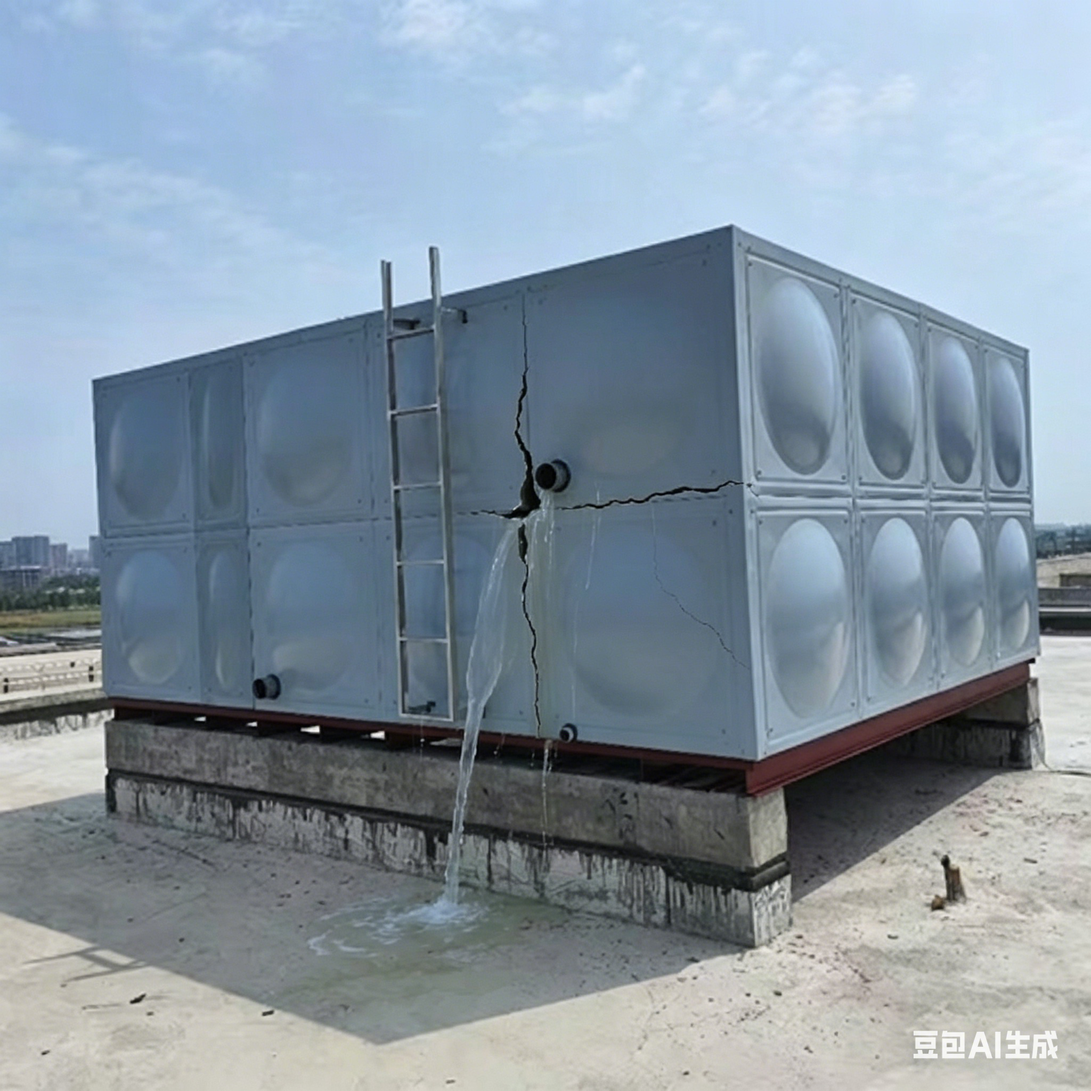Leakage: (457, 481, 562, 937), (343, 866, 457, 941)
